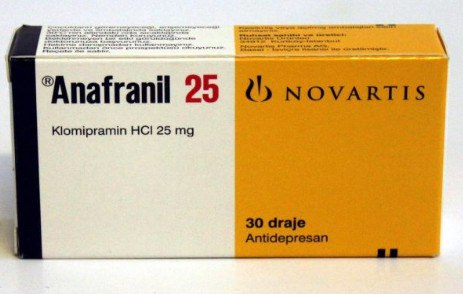Medicine: (4, 21, 452, 263)
